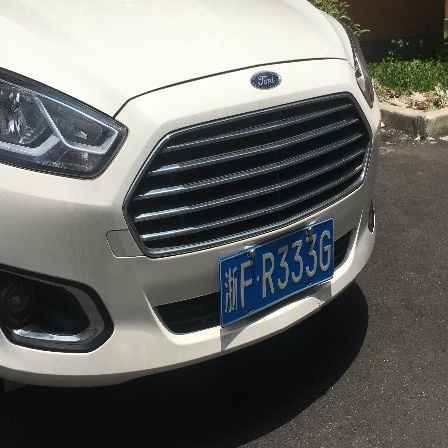plate: (220, 220, 333, 316)
